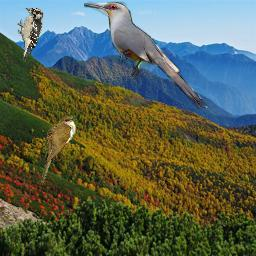Cuckoo: (84, 1, 209, 111), (40, 116, 77, 185)
Woodpecker: (17, 8, 44, 63)
